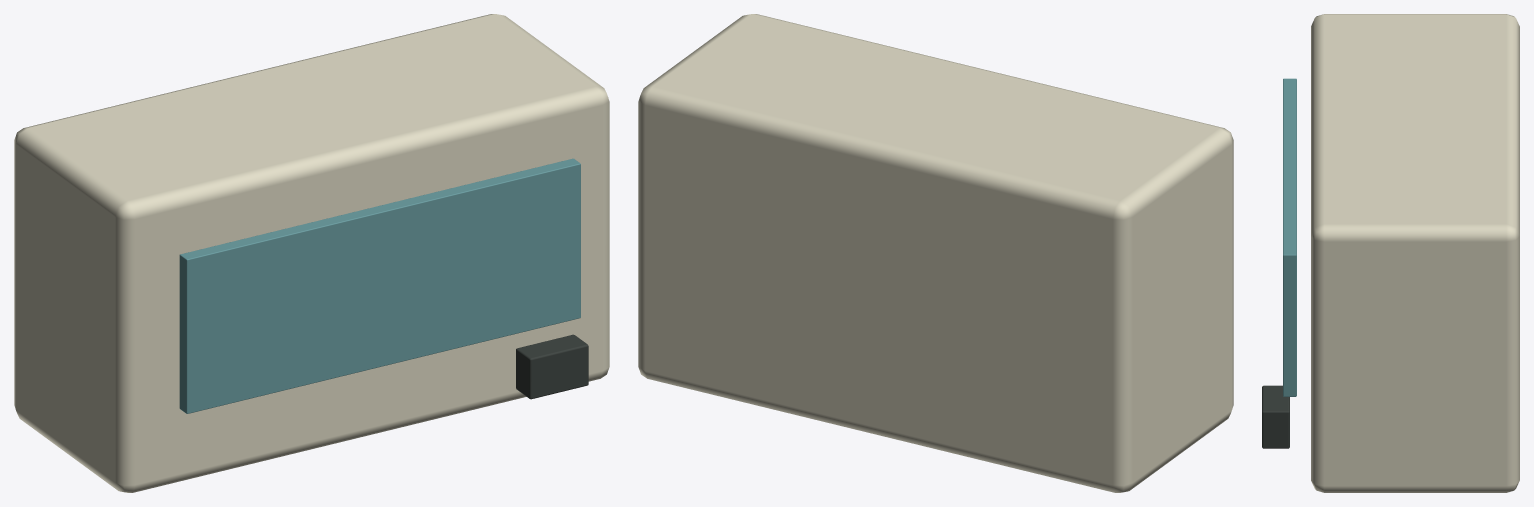
The model's file is off-grid-power-and-controls-current-meter-4927fb4c__3014.glb.
3 renders of one model, left to right at view 1: azimuth 30°, elevation 25°; view 2: azimuth 150°, elevation 25°; view 3: azimuth 270°, elevation 25°, orthographic. The views are drawn at different scales.
Visible parts, largest first — view 1: current-meter; view 2: current-meter; view 3: current-meter.
Boxes of the visible parts, x1,y1,x2,y2 form: current-meter: (14,14,609,492); current-meter: (638,14,1233,492); current-meter: (1262,14,1519,492).
Size of the model in its own units: 0.15 by 0.085 by 0.074.
